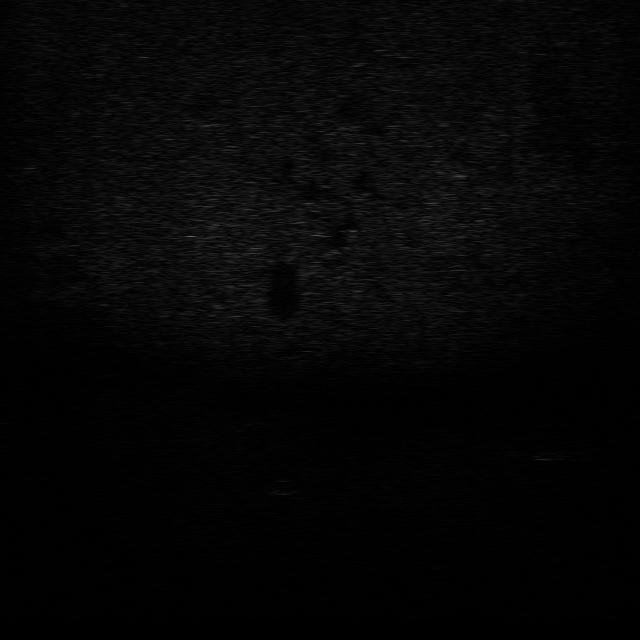ball: (264, 475, 301, 498)
human body: (498, 439, 598, 465)
